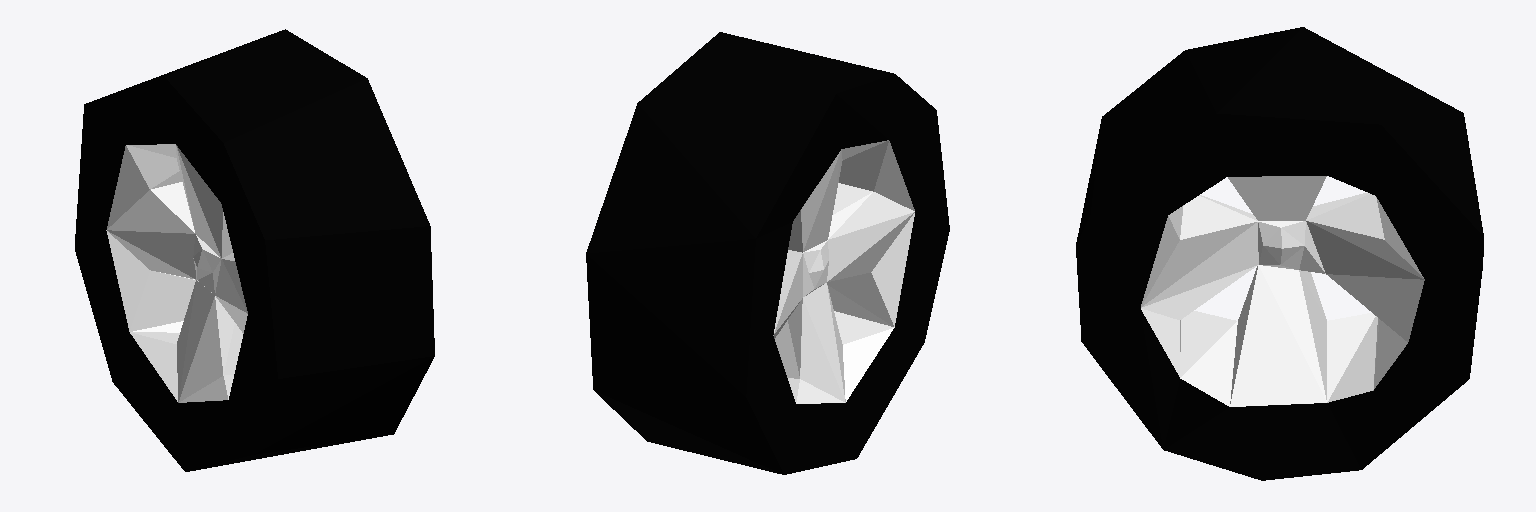
Rendered from f1-70s_front_wheel.obj.
3 views of the same model, side by side, from view 1: azimuth 30°, elevation 25°; view 2: azimuth 150°, elevation 25°; view 3: azimuth 270°, elevation 25° (orthographic).
Parts seen in each view (by area): view 1: Circle.005; view 2: Circle.005; view 3: Circle.005.
Part boxes in pixels (bbox=[...]): Circle.005: bbox=[75, 29, 434, 471]; Circle.005: bbox=[586, 32, 949, 474]; Circle.005: bbox=[1076, 27, 1483, 480].
Size of the model in its own units: 1.49 by 3.38 by 3.29.